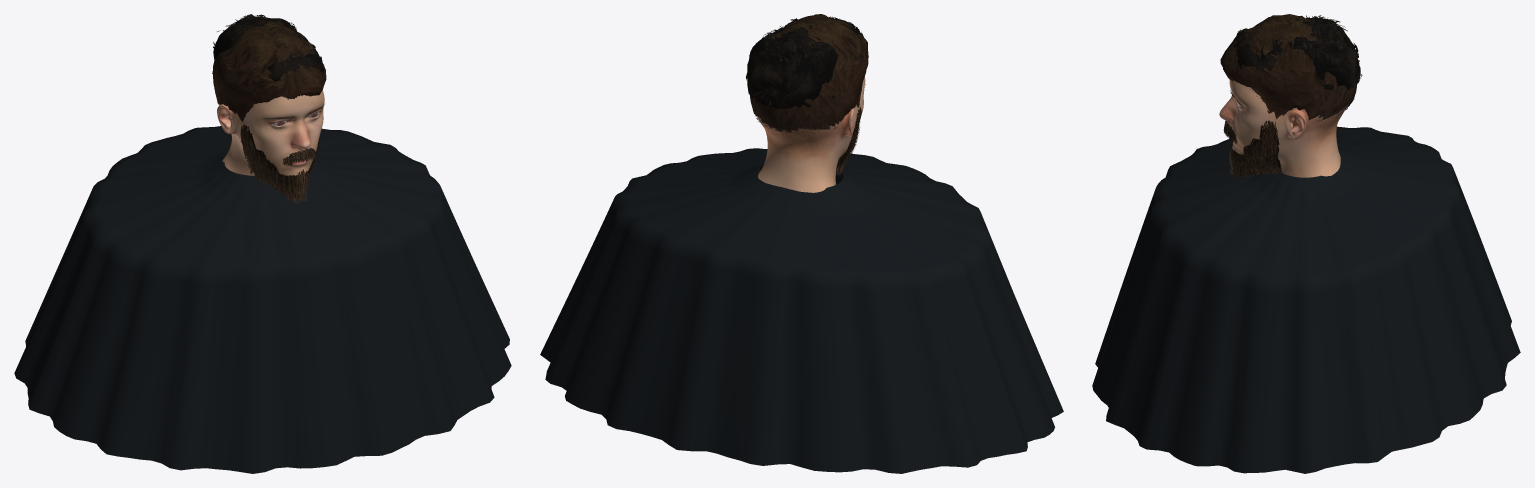
The model's file is chair-human.glb.
3 views of the same model, side by side, from view 1: azimuth 30°, elevation 25°; view 2: azimuth 150°, elevation 25°; view 3: azimuth 270°, elevation 25° (orthographic). The views are drawn at different scales.
Parts seen in each view (by area): view 1: Body_BarberCape, short02_cards, CHAIR_BaseHuman, short01_cards, beard_full-beard_jaw, beard_full-beard_jaw_density; view 2: Body_BarberCape, short01_cards, short02_cards, CHAIR_BaseHuman; view 3: Body_BarberCape, short02_cards, CHAIR_BaseHuman, short01_cards, beard_full-beard_jaw_density, beard_full-beard_jaw.
Boxes of the visible parts, x1,y1,x2,y2 form: Body_BarberCape: [14, 126, 511, 473]; short02_cards: [213, 20, 326, 121]; CHAIR_BaseHuman: [217, 90, 324, 176]; short01_cards: [212, 14, 323, 81]; beard_full-beard_jaw: [240, 124, 319, 203]; beard_full-beard_jaw_density: [241, 124, 319, 200]; Body_BarberCape: [540, 148, 1063, 473]; short01_cards: [746, 16, 863, 108]; short02_cards: [747, 14, 868, 130]; CHAIR_BaseHuman: [758, 76, 864, 192]; Body_BarberCape: [1092, 126, 1520, 473]; short02_cards: [1220, 14, 1357, 120]; CHAIR_BaseHuman: [1219, 80, 1348, 177]; short01_cards: [1233, 15, 1362, 91]; beard_full-beard_jaw_density: [1229, 120, 1280, 175]; beard_full-beard_jaw: [1229, 121, 1279, 177].
Size of the model in its own units: 0.8014 by 0.6108 by 0.66.
Materials: 13 (8 with a texture image).
